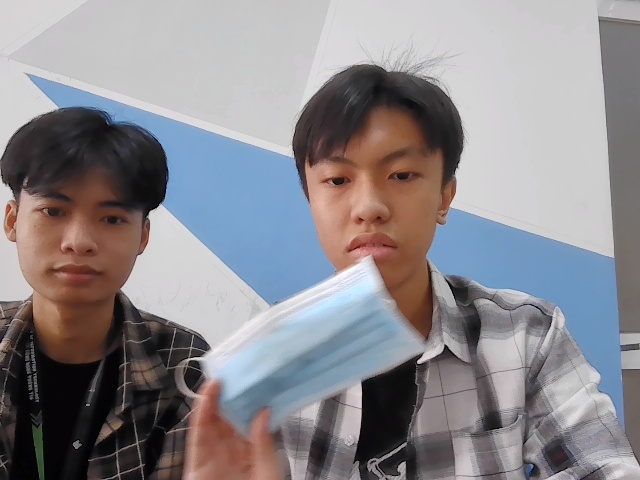human: (283, 61, 475, 289), (1, 101, 171, 305)
mask: (187, 260, 442, 423)
